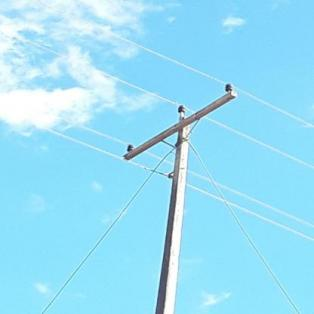Poste: (149, 108, 190, 314)
